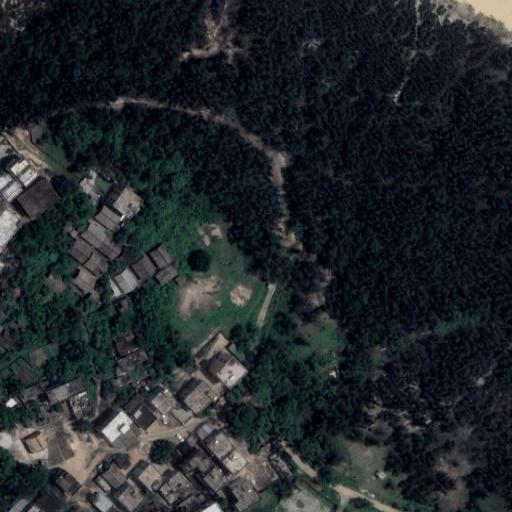building: (104, 327, 148, 373), (17, 177, 61, 220), (90, 407, 131, 448), (72, 164, 111, 202), (45, 377, 86, 406), (177, 378, 211, 412), (158, 471, 192, 505), (106, 181, 138, 214), (205, 351, 236, 382), (225, 477, 254, 509), (4, 154, 33, 184), (183, 450, 215, 476), (65, 238, 94, 266), (69, 392, 95, 422), (150, 388, 177, 415), (217, 445, 244, 472), (203, 430, 230, 457), (129, 459, 156, 486), (80, 223, 107, 249), (131, 404, 157, 431), (55, 470, 82, 496), (119, 486, 145, 512), (130, 256, 155, 283), (0, 206, 17, 245), (94, 205, 120, 230), (113, 269, 138, 295), (97, 236, 122, 261), (149, 243, 173, 268), (84, 253, 108, 277), (24, 431, 48, 455), (204, 466, 228, 490), (72, 270, 96, 293), (102, 464, 125, 488), (0, 169, 18, 199), (36, 491, 61, 512), (0, 389, 21, 412), (0, 425, 18, 451), (91, 492, 112, 512), (160, 264, 178, 281), (94, 476, 112, 493), (196, 427, 208, 440), (202, 424, 212, 434), (175, 276, 184, 285)
